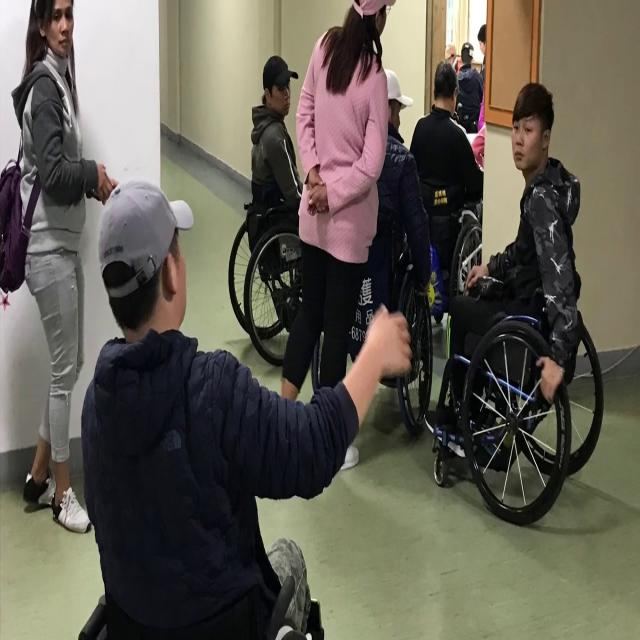wheelchairs: (420, 266, 611, 530), (297, 230, 441, 436), (220, 177, 353, 388)
